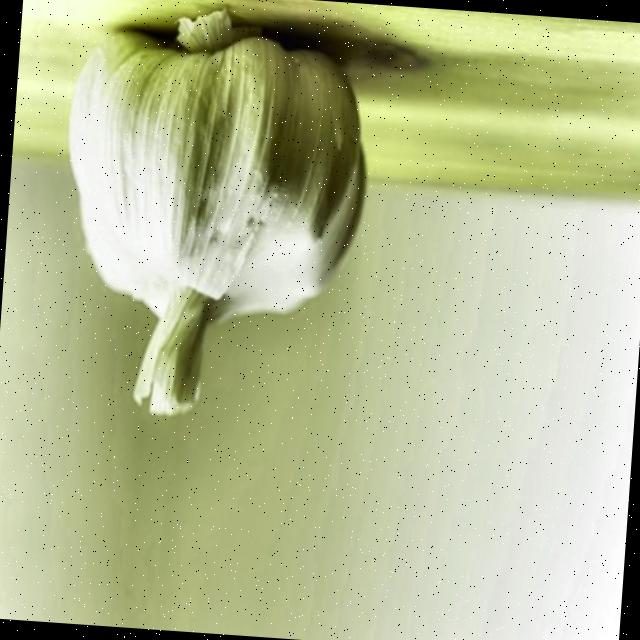garlic: (69, 10, 364, 412)
